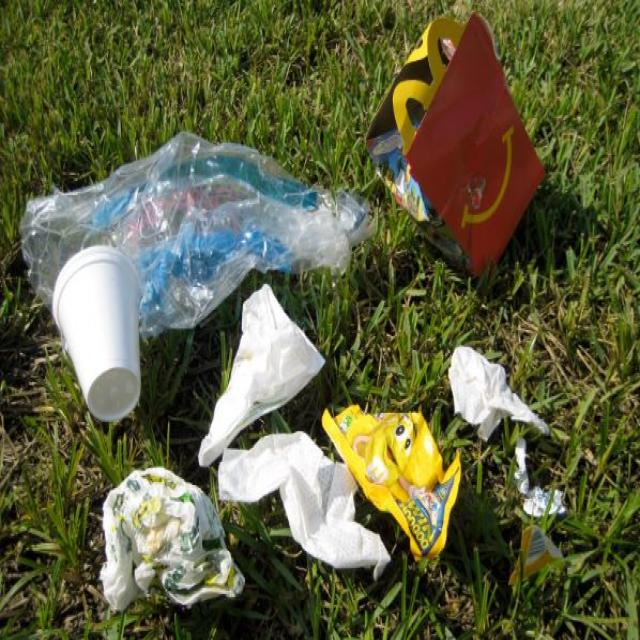dry: (17, 123, 373, 334), (357, 13, 578, 283), (92, 460, 259, 622), (197, 274, 332, 472), (318, 392, 469, 566), (49, 244, 150, 425), (446, 334, 556, 461)
